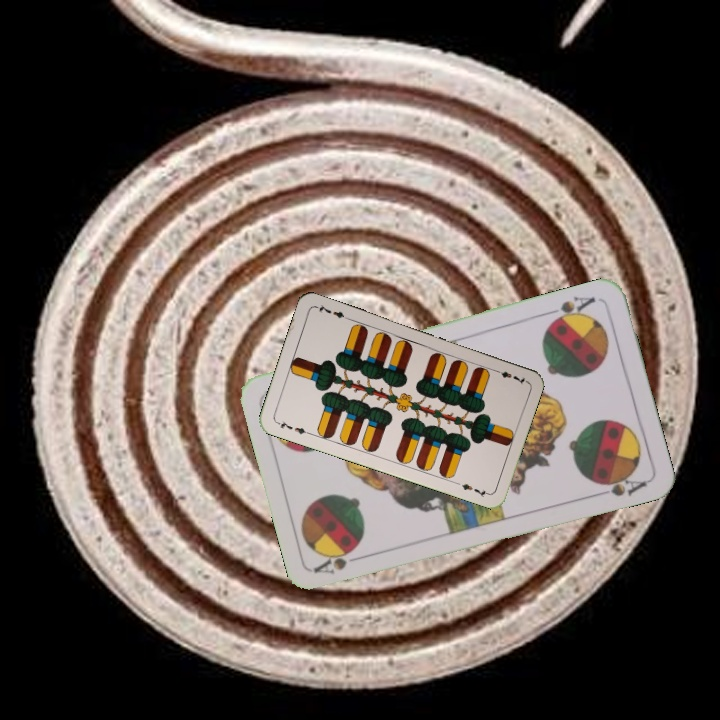E7: (489, 365, 529, 387), (273, 417, 312, 437)
SA: (542, 292, 598, 327), (311, 545, 369, 577)
